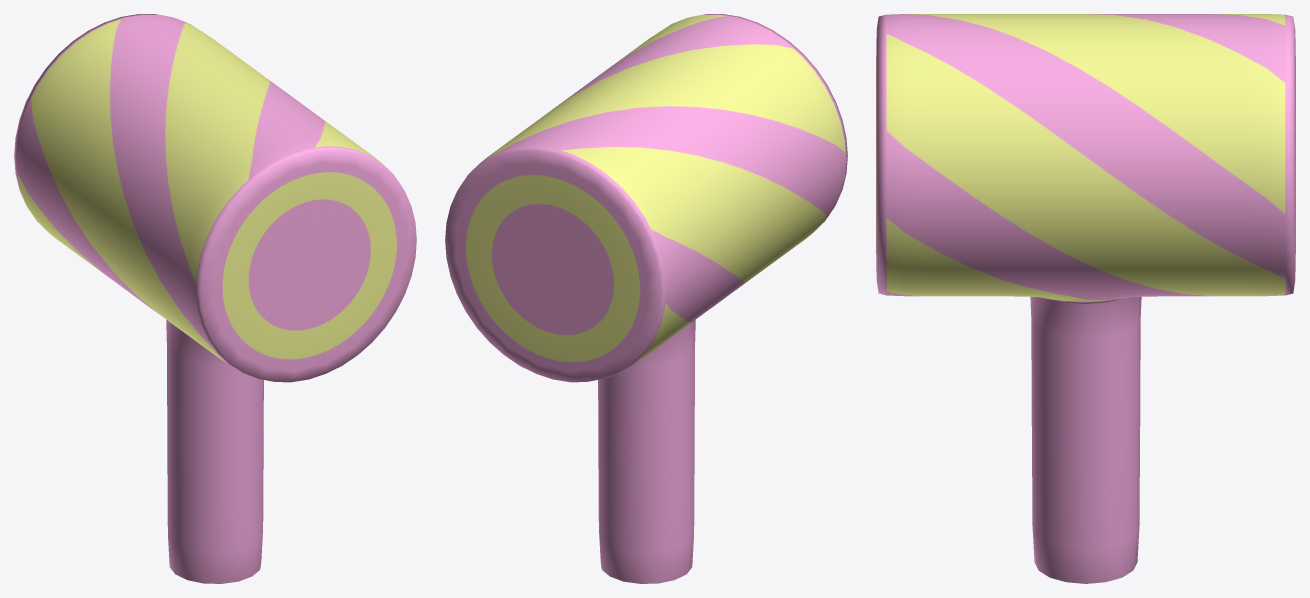
The model's file is Hammer2.fbx.
The picture shows the model from 3 angles, left to right: view 1: azimuth 30°, elevation 25°; view 2: azimuth 150°, elevation 25°; view 3: azimuth 270°, elevation 25°; orthographic projection. The views are drawn at different scales.
Parts seen in each view (by area): view 1: pCylinder1; view 2: pCylinder1; view 3: pCylinder1.
Boxes of the visible parts, x1,y1,x2,y2 form: pCylinder1: (14, 14, 416, 583); pCylinder1: (445, 14, 847, 583); pCylinder1: (876, 14, 1295, 583).
Size of the model in its own units: 9.67 by 20.31 by 14.38.
1 material, 1 textured.
